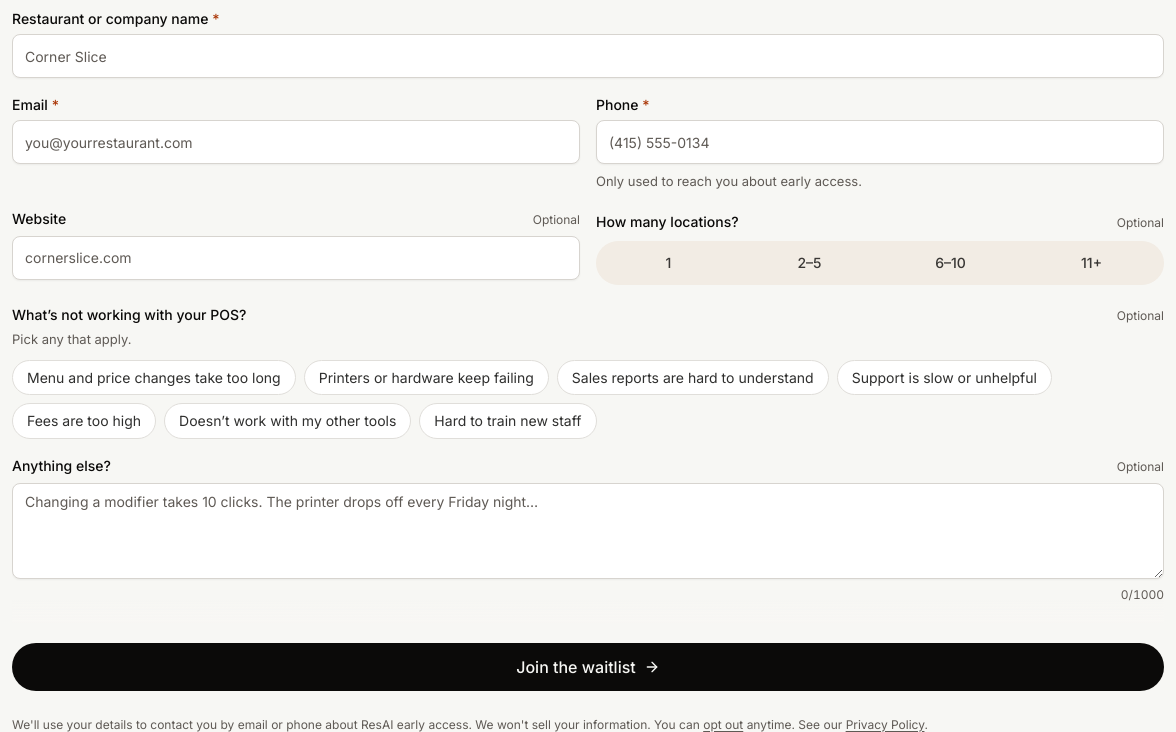
Scenario: WaitlistForm › toggles POS problem chips and the optional location choice off again
The image size is (1176, 732).
Click the checkbox labelled "Support is slow or unhelpful" at (944, 377), box [837,360,1052,395]
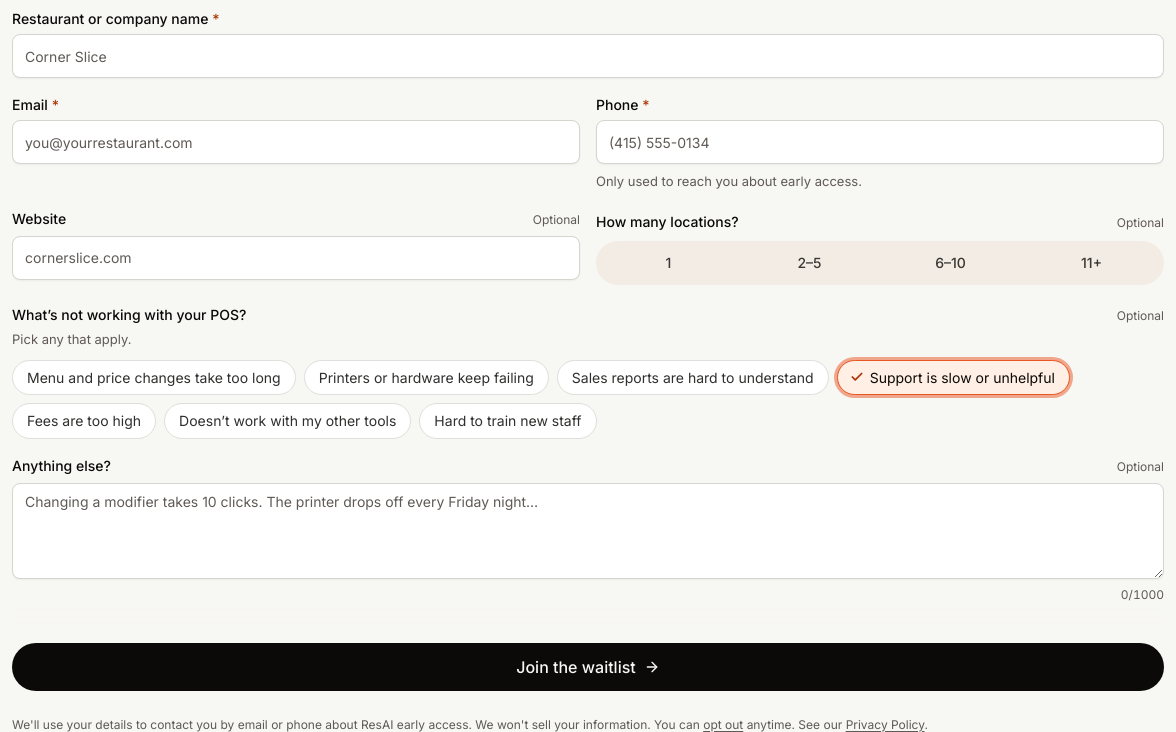
Check: the checkbox labelled "Support is slow or unhelpful" is checked
Click the checkbox labelled "Support is slow or unhelpful" at (953, 377), box [837,360,1070,395]
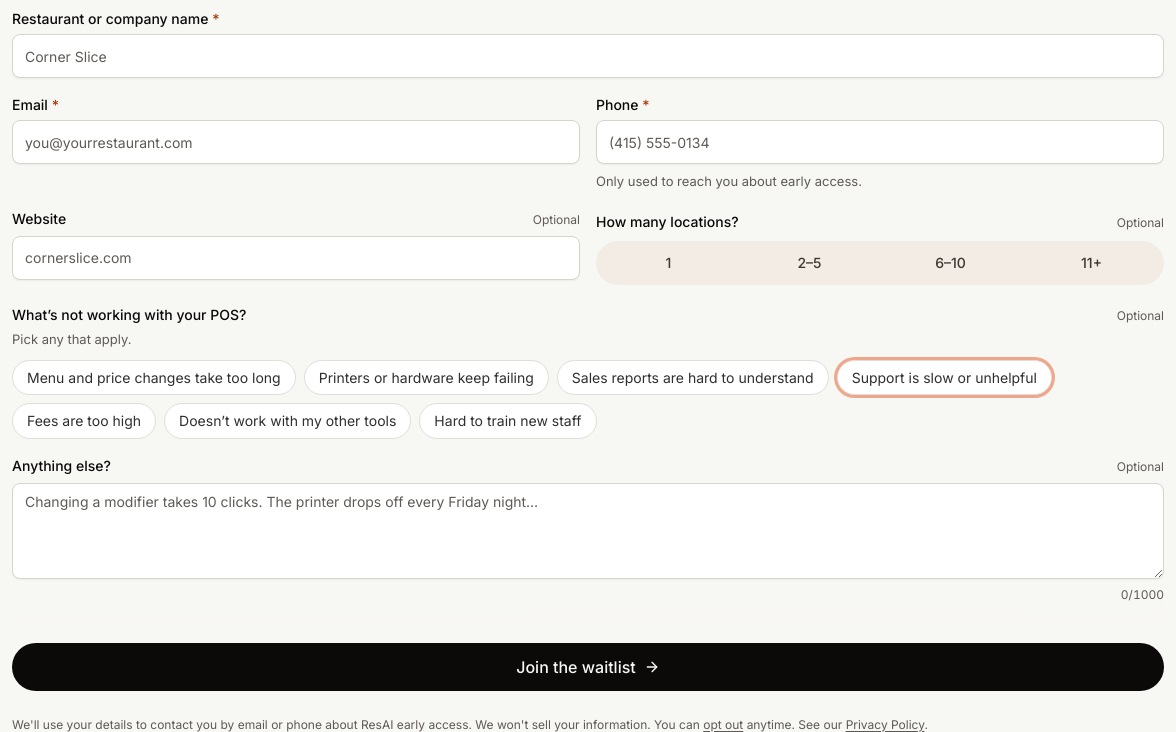
Check: the checkbox labelled "Support is slow or unhelpful" is not checked, box [837,360,1052,395]
Click the radio button labelled "1" at (668, 262), box [666,254,671,271]
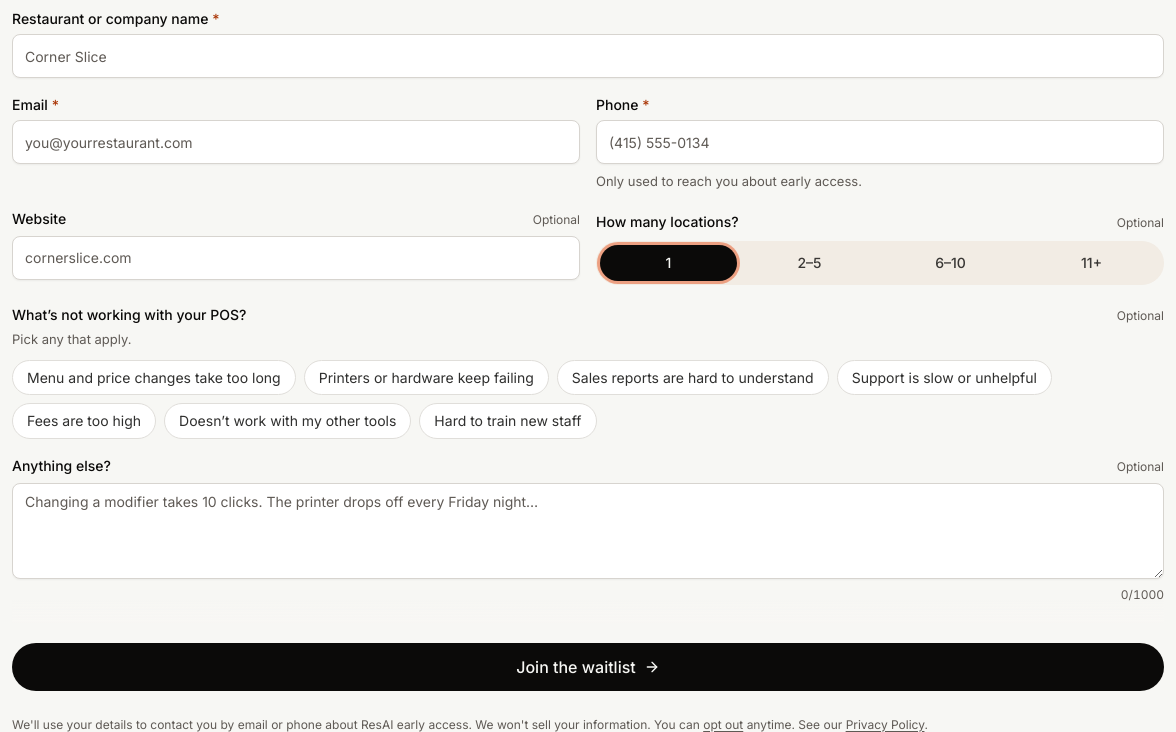
Check: the radio button labelled "1" is checked
Click the radio button labelled "1" at (668, 263), box [600,245,737,281]
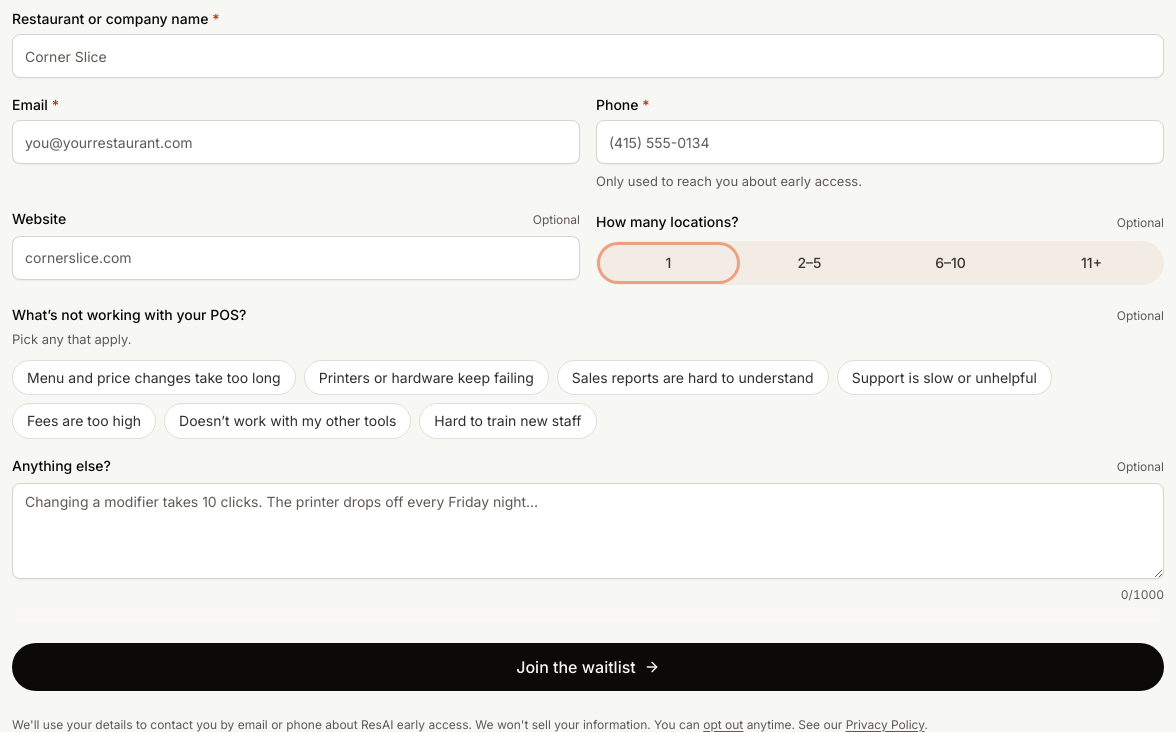
Check: the radio button labelled "1" is not checked, box [600,245,737,281]
